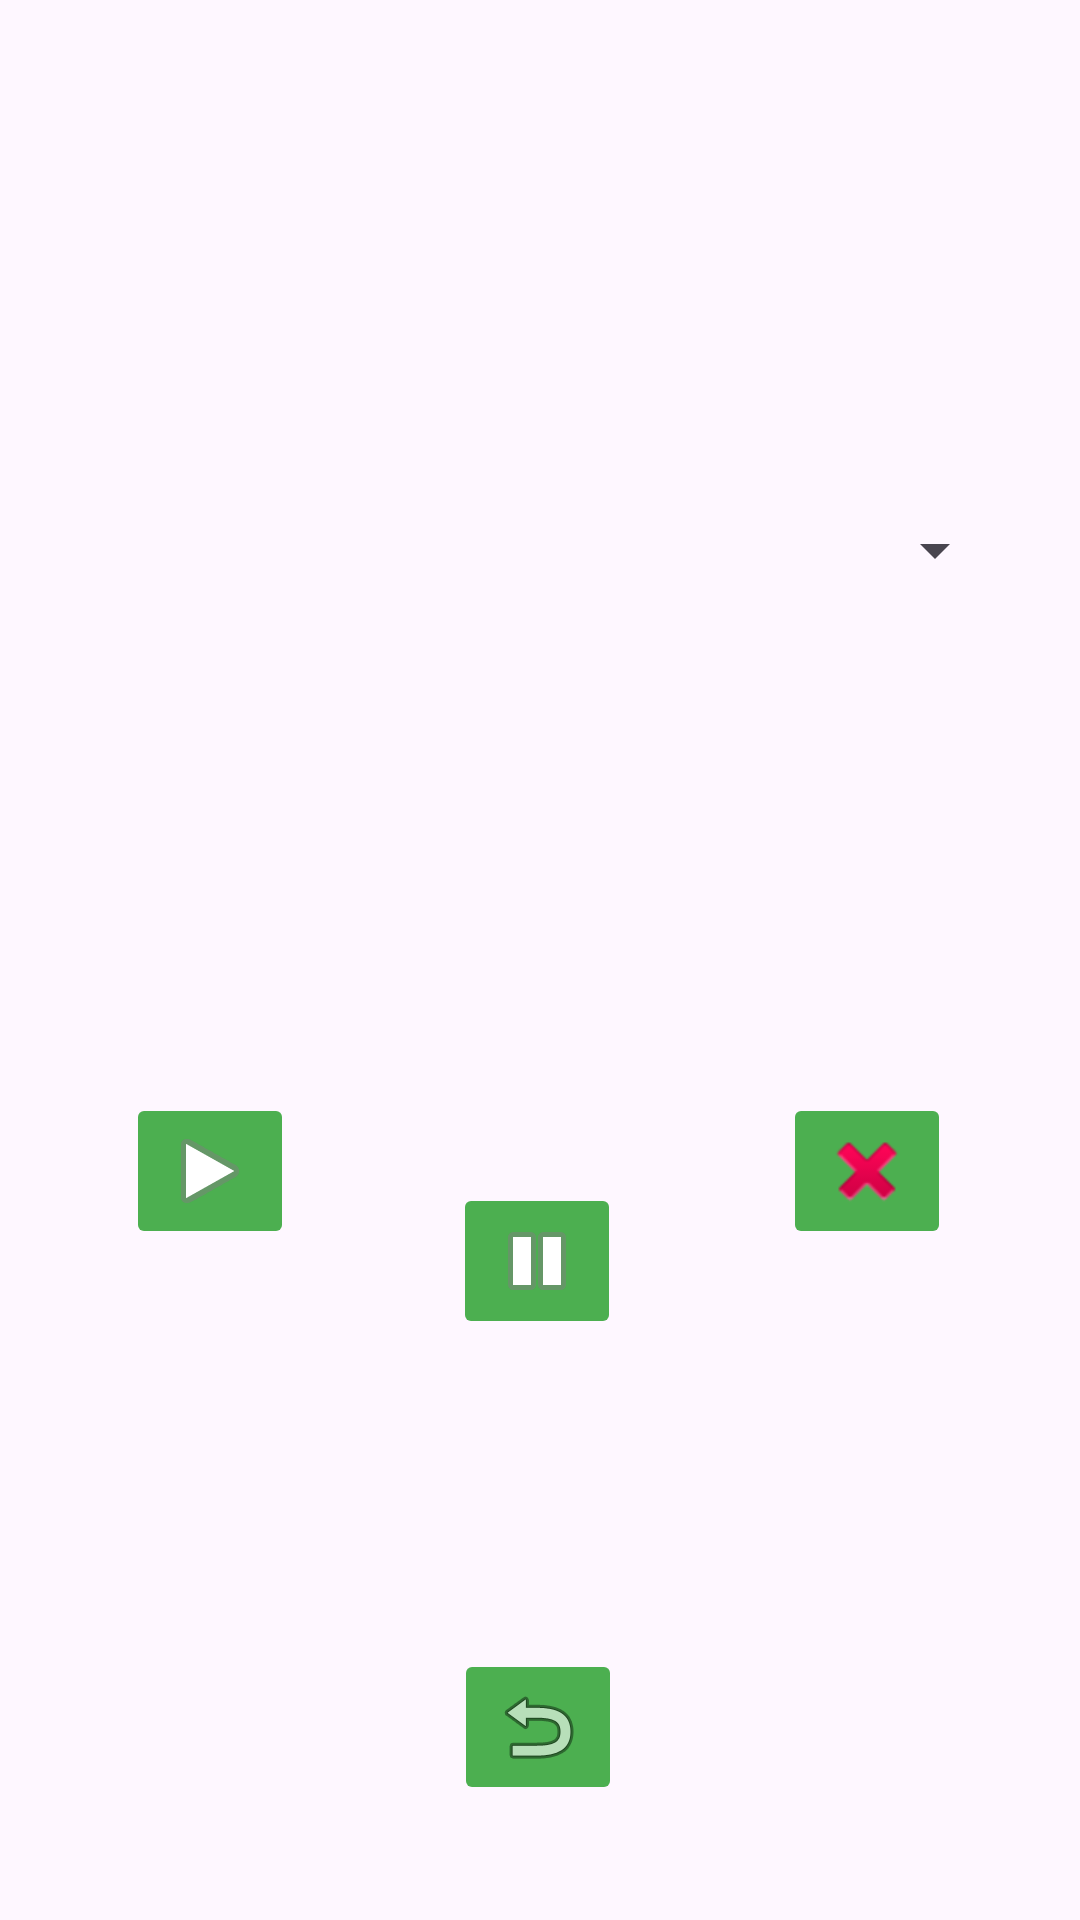

Named icons in this screenshot (1080*1920) and their centers, [x,y]:
delete: [867,1171]
pause: [537,1261]
play: [210,1171]
revert: [538,1727]
